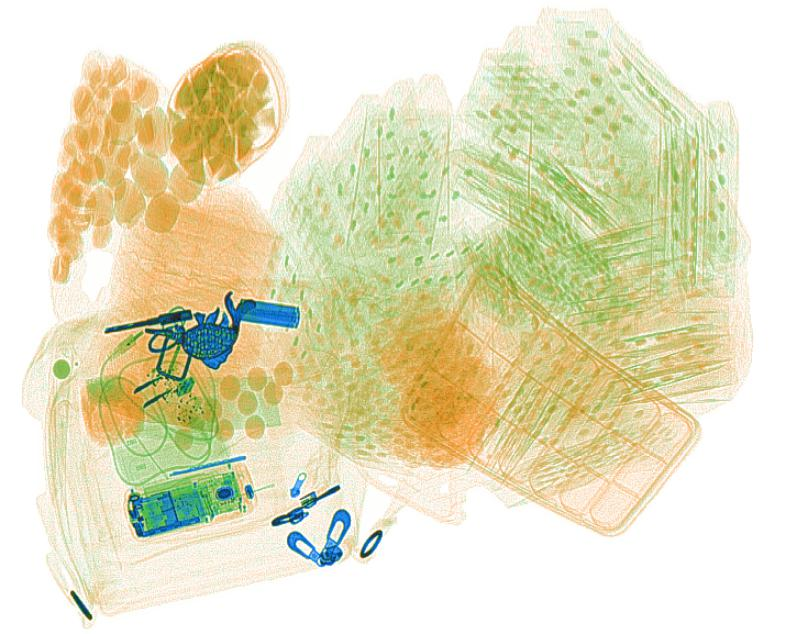battery: (234, 295, 299, 327)
